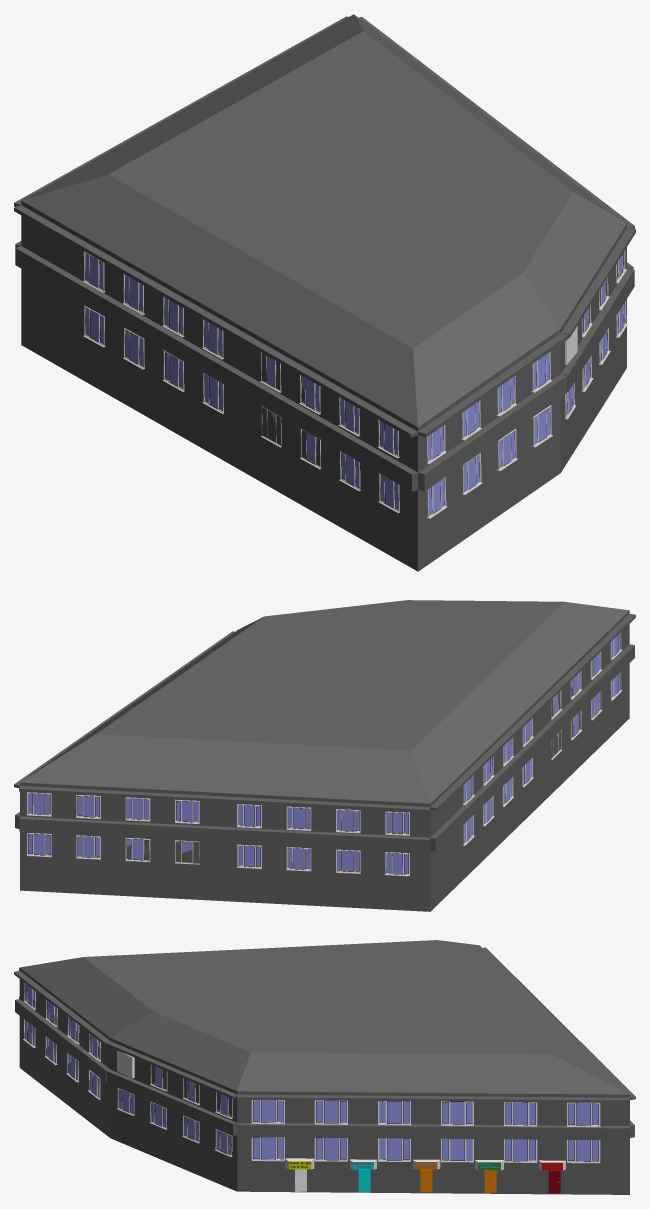
File: KingstonStreetShops.fbx
The picture shows the model from 3 angles, top to bottom: view 1: azimuth 30°, elevation 25°; view 2: azimuth 150°, elevation 25°; view 3: azimuth 270°, elevation 25°; orthographic projection. The views are drawn at different scales.
Parts seen in each view (by area): view 1: Vert.016, Window.005, Window.003, Window.004, Window; view 2: Vert.016, Window.006, Window.007, Window.005, Window.004; view 3: Vert.016, Window.002, Window.001, Window, Window.003, CTRL_Hole.002.
Boxes of the visible parts, x1,y1,x2,y2 form: Vert.016: (14, 14, 635, 571); Window.005: (82, 251, 223, 413); Window.003: (427, 351, 552, 518); Window.004: (260, 352, 399, 512); Window: (565, 250, 627, 419); Vert.016: (14, 600, 635, 911); Window.006: (237, 804, 409, 876); Window.007: (26, 792, 199, 864); Window.005: (462, 718, 533, 845); Window.004: (551, 632, 622, 759); Vert.016: (14, 940, 635, 1194); Window.002: (251, 1100, 600, 1127); Window.001: (251, 1137, 600, 1163); Window: (117, 1065, 232, 1157); Window.003: (23, 983, 100, 1099); CTRL_Hole.002: (117, 1050, 134, 1078).
Bounding box in the file's own units: 39.7 × 14.91 × 67.44.
